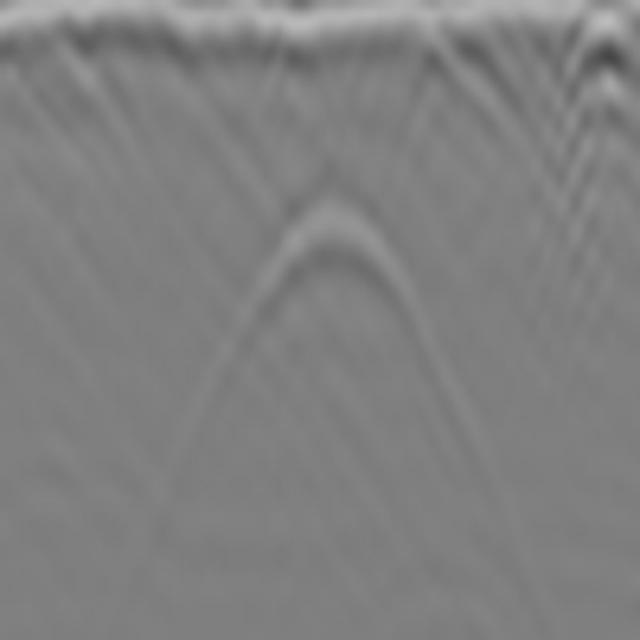hyperbola: (219, 183, 445, 381)
